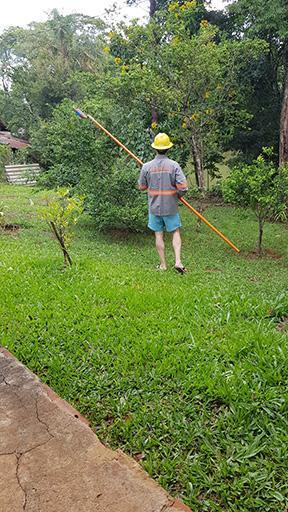helmet: (150, 132, 174, 157)
